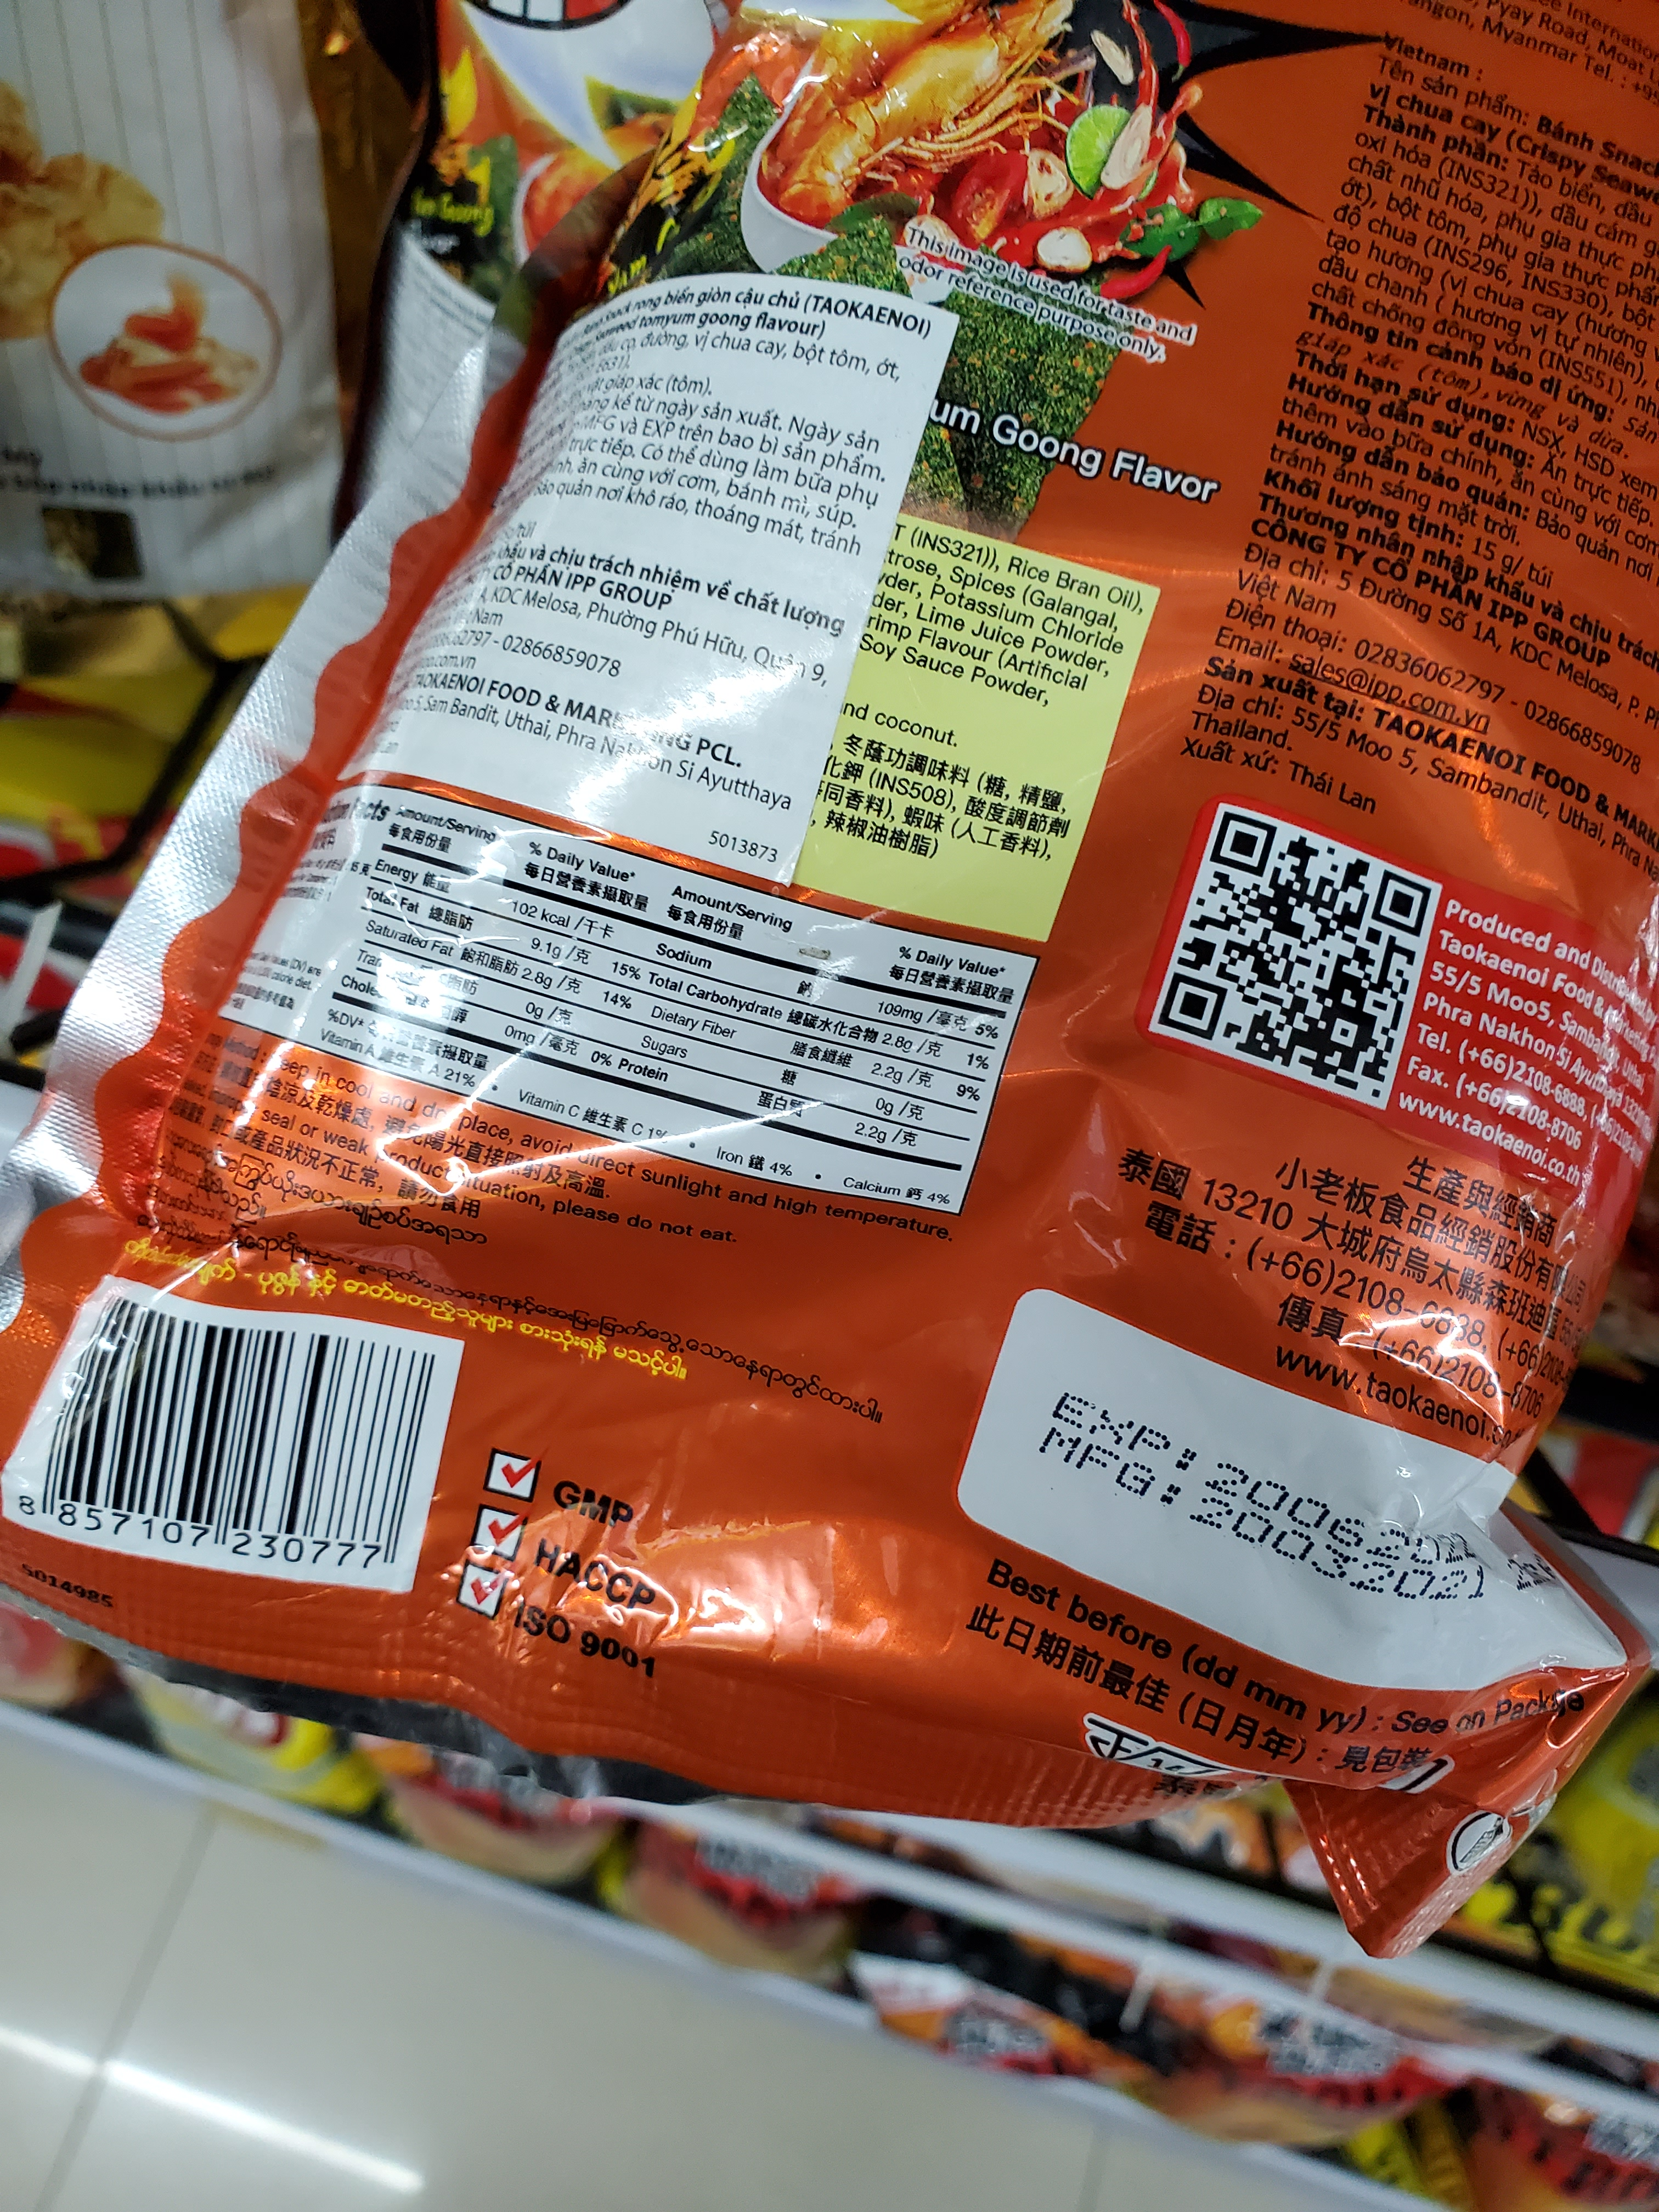BARCODE: (12, 1296, 453, 1604)
QR CODE: (1152, 799, 1432, 1129)
